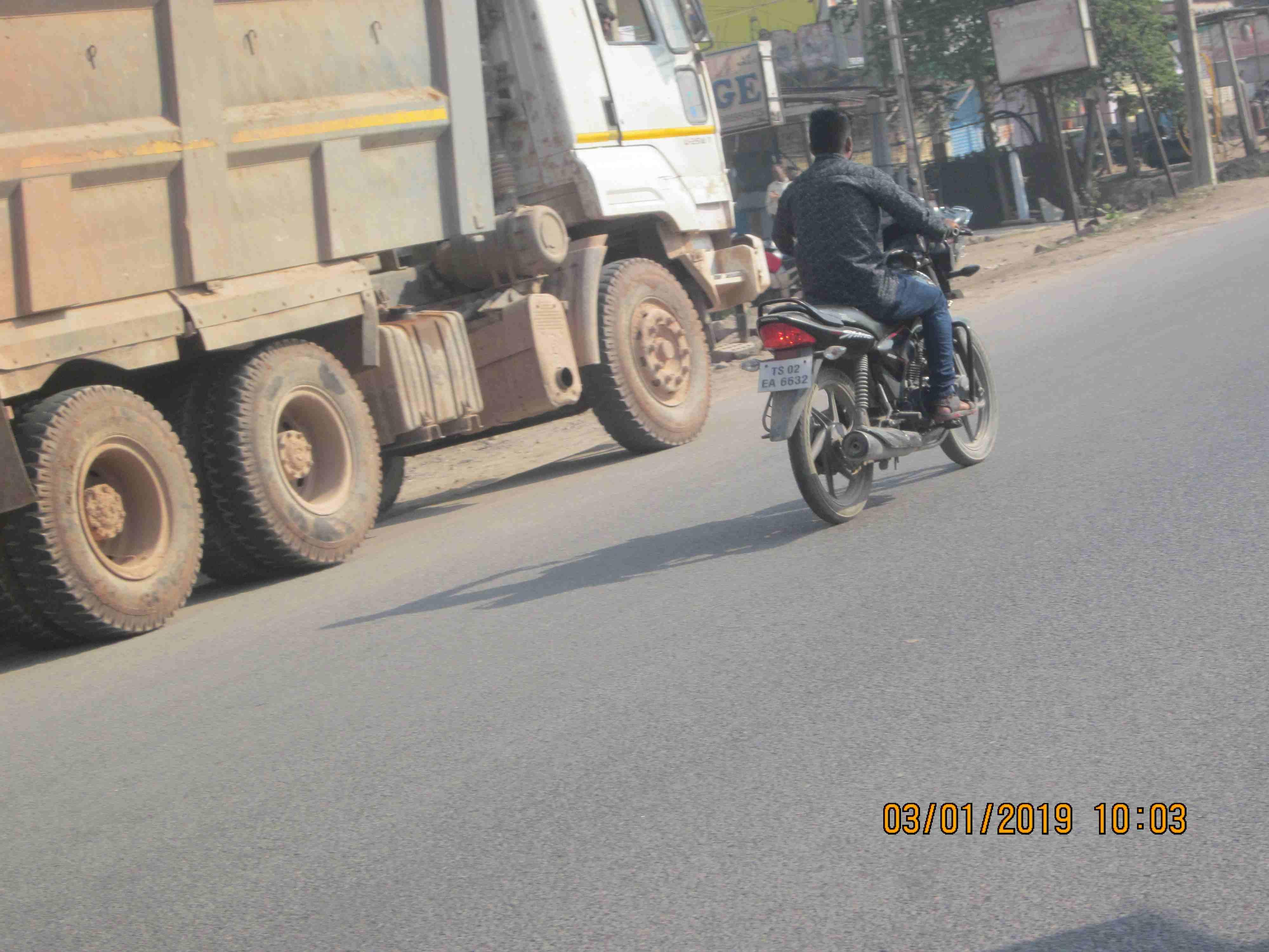plate: (758, 356, 821, 397)
